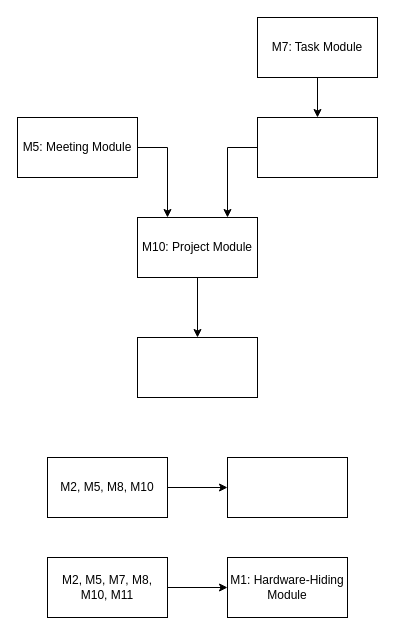
Image size: 395x635. Some labels were removed from this diagram. Each missing label, with the centre of its shape:
"M11: Generic Dictionary Module" goes at (x=287, y=487).
"M2: ScrumBot Module" goes at (x=197, y=367).
"M8: Sprint Module" goes at (x=317, y=147).
